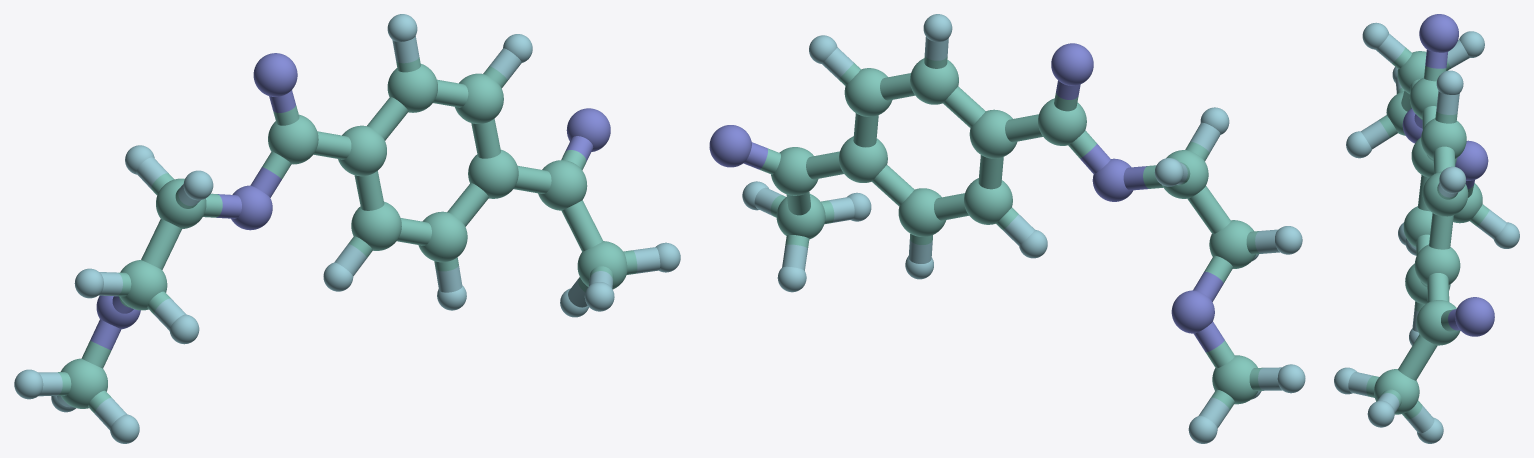
The model's file is PET_COLORED.glb.
3 renders of one model, left to right at view 1: azimuth 30°, elevation 25°; view 2: azimuth 150°, elevation 25°; view 3: azimuth 270°, elevation 25°, orthographic. The views are drawn at different scales.
Parts seen in each view (by area): view 1: atoms, bonds; view 2: atoms, bonds; view 3: atoms, bonds.
Boxes of the visible parts, left/top/right/bottom form: atoms: left=14, top=14, right=680, bottom=443; bonds: left=38, top=36, right=660, bottom=429; atoms: left=709, top=14, right=1305, bottom=443; bonds: left=743, top=37, right=1282, bottom=428; atoms: left=1334, top=14, right=1519, bottom=443; bonds: left=1348, top=33, right=1506, bottom=433.
Size of the model in its own units: 12.02 by 6.37 by 3.46.
